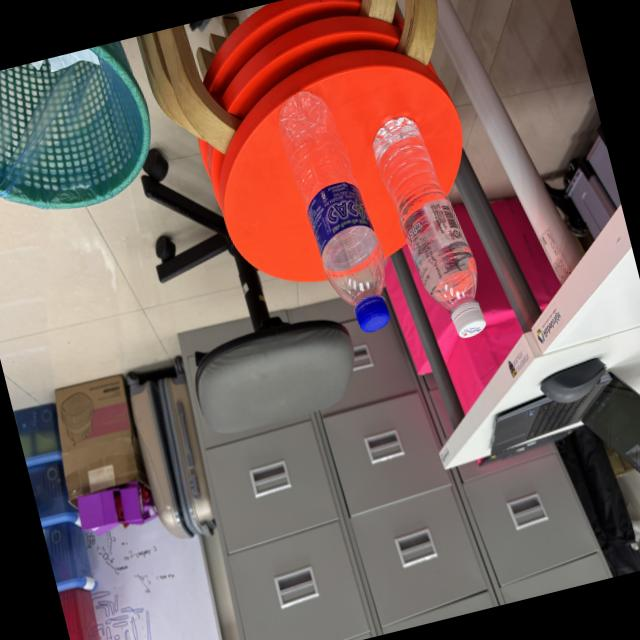dustbin: (0, 36, 172, 241)
plastic_bottle: (357, 96, 509, 360), (264, 73, 407, 352)
